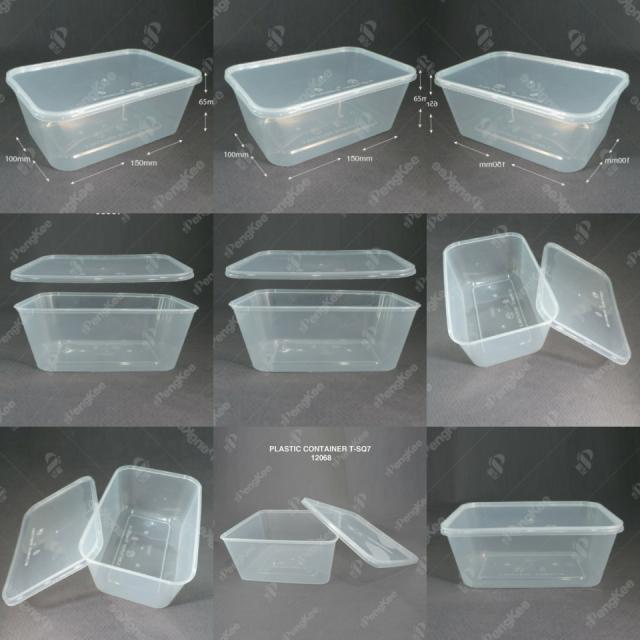Single-Use-Plastic: (6, 49, 201, 171), (435, 51, 629, 172), (225, 46, 416, 166), (80, 465, 201, 609), (440, 502, 624, 588), (442, 232, 559, 367), (230, 289, 420, 372), (15, 292, 198, 371), (2, 476, 102, 606), (536, 242, 631, 365), (220, 506, 340, 584), (301, 498, 419, 568), (225, 249, 416, 279), (10, 254, 194, 283)
